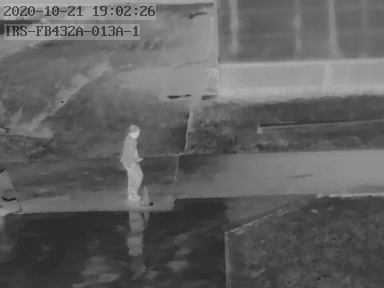person: (116, 125, 146, 199)
